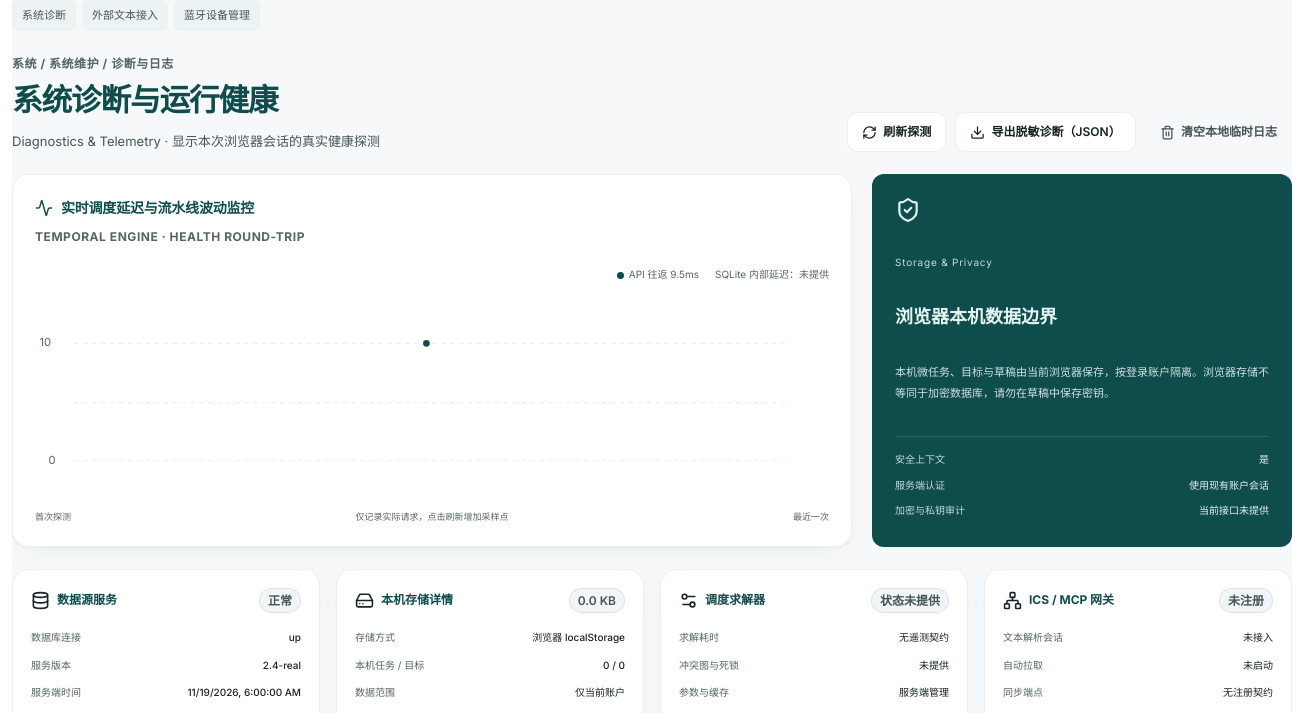
Test: service and reserved capabilities › shows health returned by the real endpoint and records refresh failures truthfully
Expected: the text "2.4-real" is shown, [263,658,301,673]
Click the button "刷新探测".
click(897, 132)  # box [847,112,946,152]
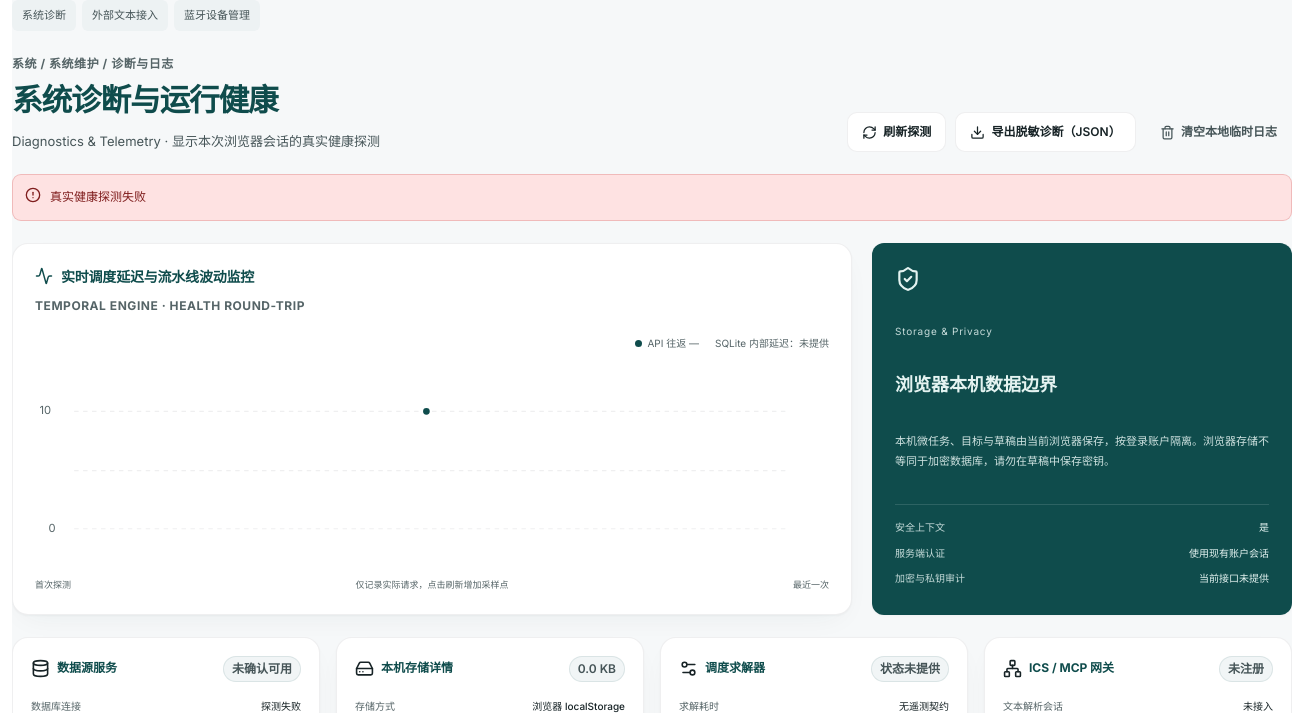
Result: the text "真实健康探测失败" is shown at [12,174,1292,221]
